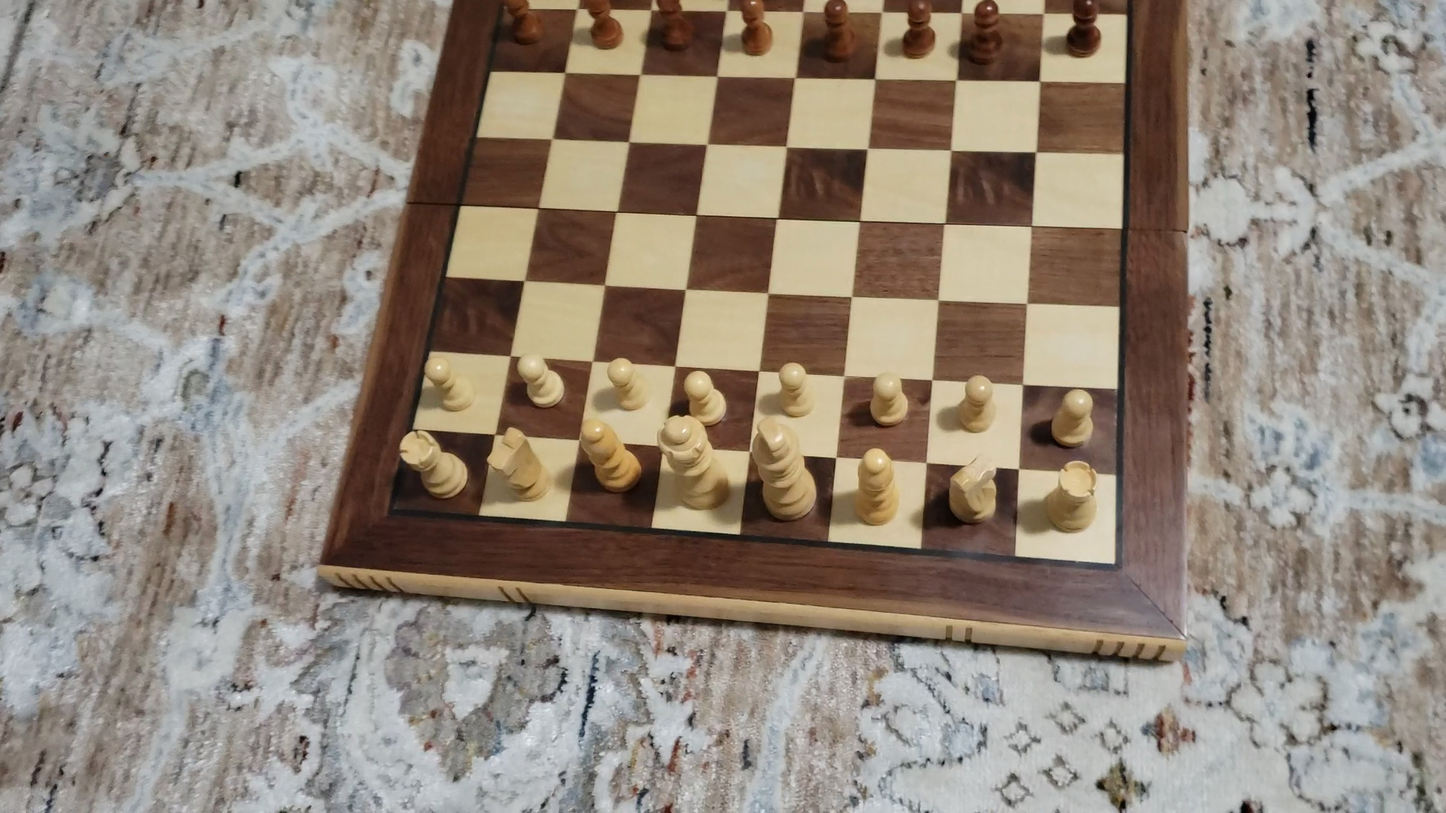black-pawn: (962, 0, 1005, 67), (818, 0, 855, 64), (1064, 0, 1102, 59), (900, 0, 936, 60), (737, 0, 773, 58), (653, 0, 693, 51), (586, 0, 622, 50), (502, 0, 541, 46)
white-bishop: (574, 418, 644, 496), (852, 444, 902, 530)
white-king: (738, 413, 826, 528)
white-knight: (484, 425, 552, 505), (941, 448, 1000, 530)
white-pawn: (421, 351, 478, 414), (1048, 386, 1100, 451), (953, 370, 1000, 436), (514, 352, 567, 410), (773, 358, 817, 421), (865, 370, 911, 429), (683, 368, 727, 428), (603, 355, 646, 413)
white-queen: (656, 414, 733, 514)
white-rook: (398, 429, 472, 501), (1040, 456, 1104, 537)
